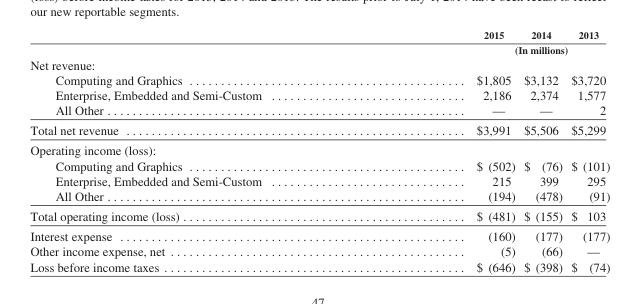table: (29, 28, 609, 273)
table column: (29, 28, 368, 273), (368, 28, 518, 273), (518, 28, 566, 273), (566, 28, 609, 273)
table column header: (29, 28, 609, 56)
table projected row header: (29, 139, 609, 157), (29, 56, 609, 71)
table row: (29, 119, 609, 139), (29, 205, 609, 225), (29, 139, 609, 157), (29, 187, 609, 205), (29, 225, 609, 243), (29, 102, 609, 119), (29, 86, 609, 102), (29, 56, 609, 71), (29, 71, 609, 86), (29, 157, 609, 172), (29, 172, 609, 187), (29, 243, 609, 258), (29, 258, 609, 273), (29, 28, 609, 42), (29, 42, 609, 56)
table spanning cell: (368, 42, 609, 56)
